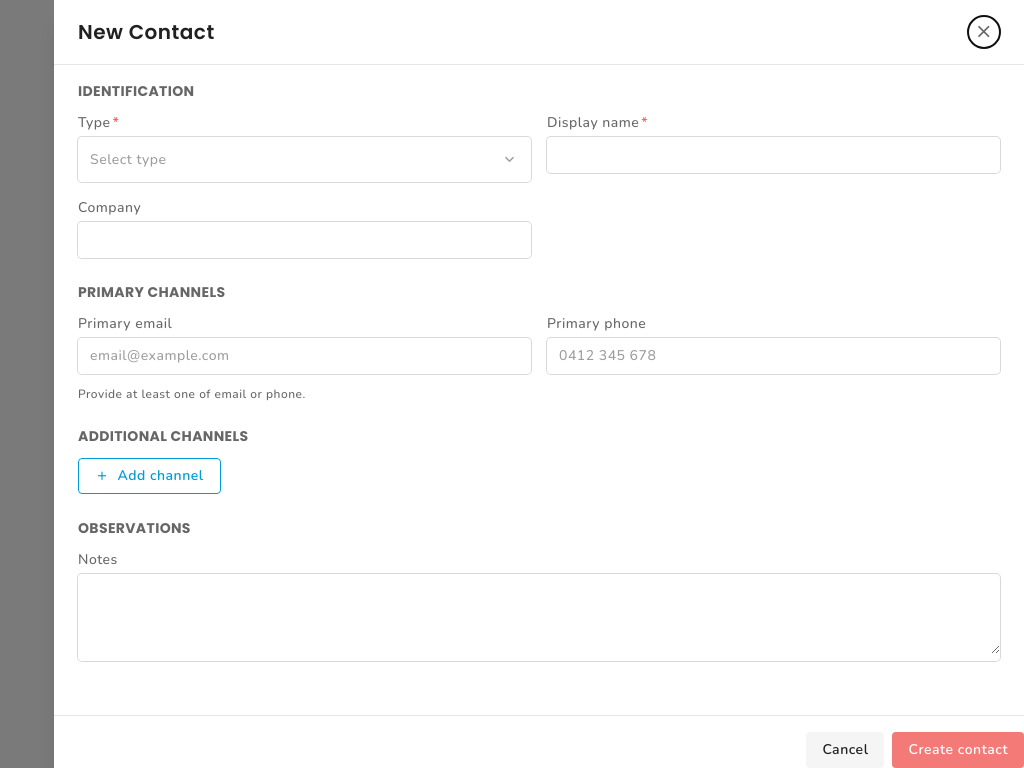
Test: ContactFormDrawer — per-row channel errors › clears a row error when that channel row is removed
Click the button with aria-label "Add additional channel" at (149,476), box [78,458,220,494]
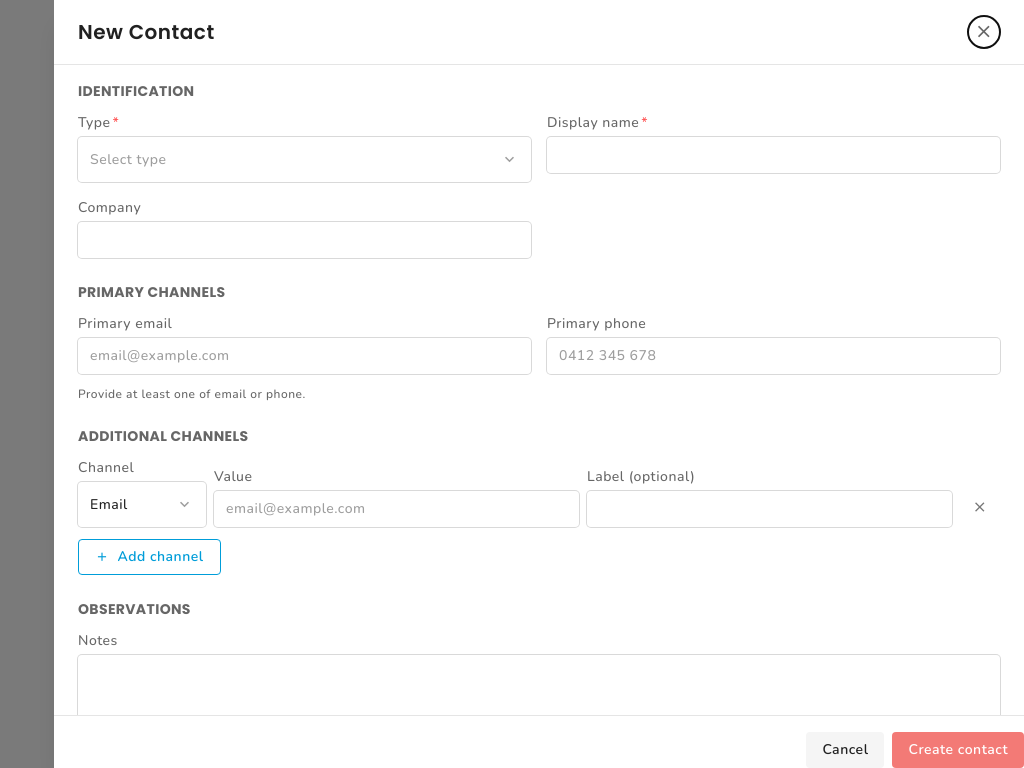
Click the button "Create contact" at (958,750), box [892,732,1023,767]
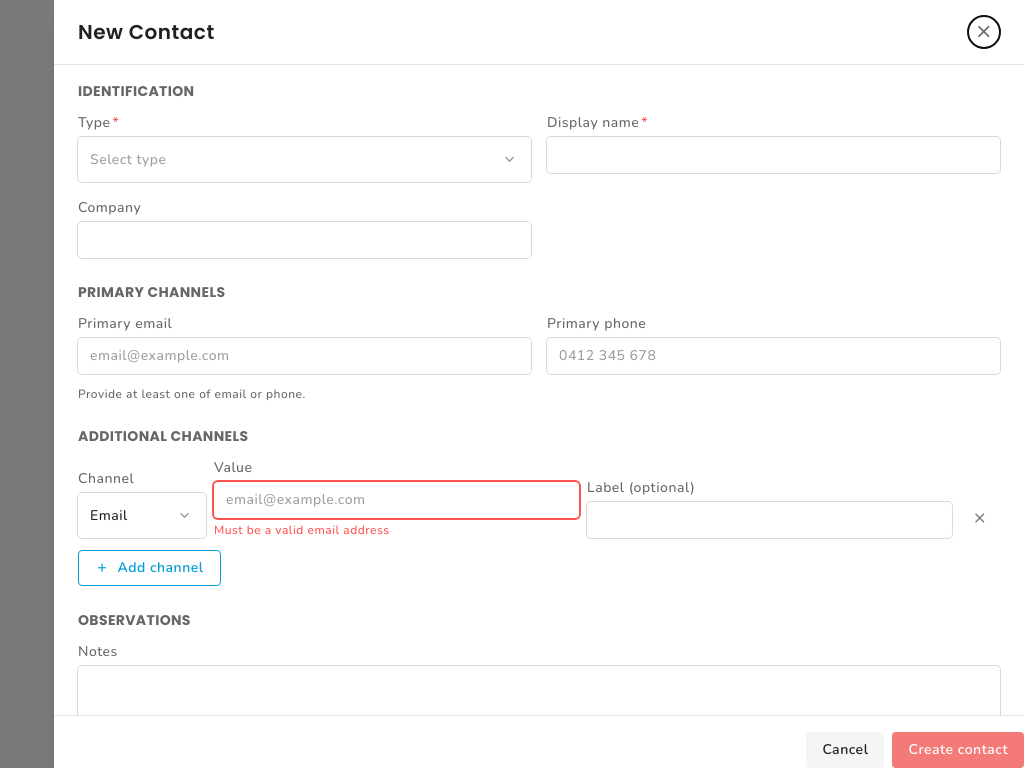
Expected: the text "Must be a valid email address" is shown, [214,522,390,538]
Click the button named "Remove channel 1" at (980,518), box [960,498,1000,538]
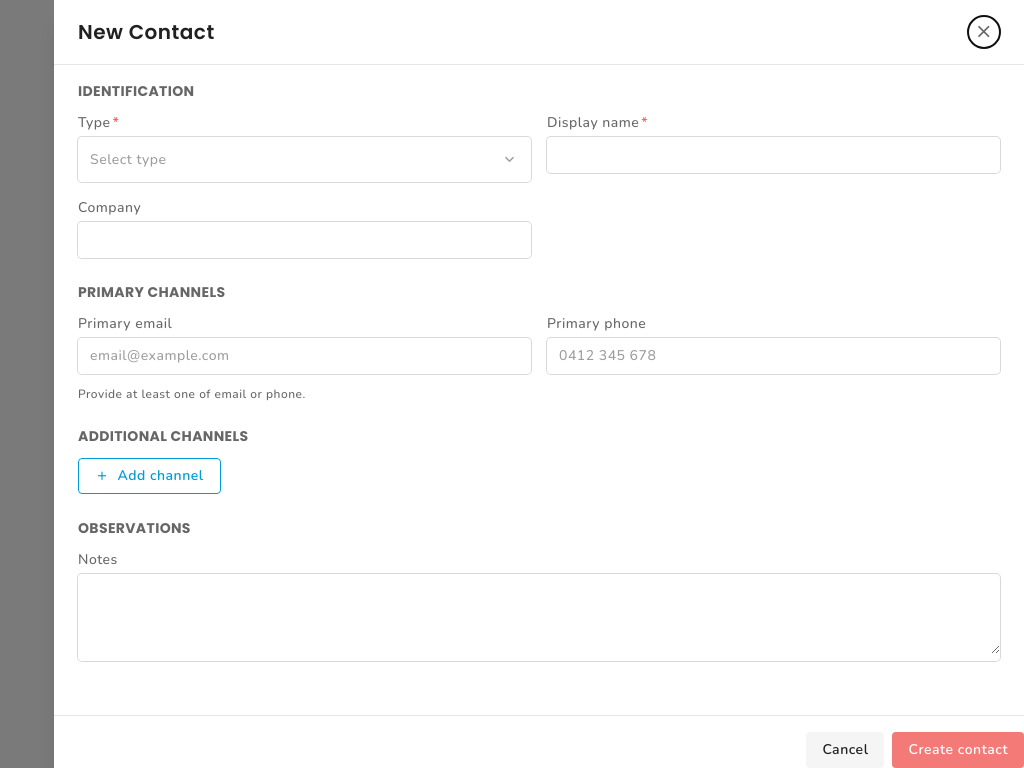
Expected: the text "Must be a valid email address" is gone
